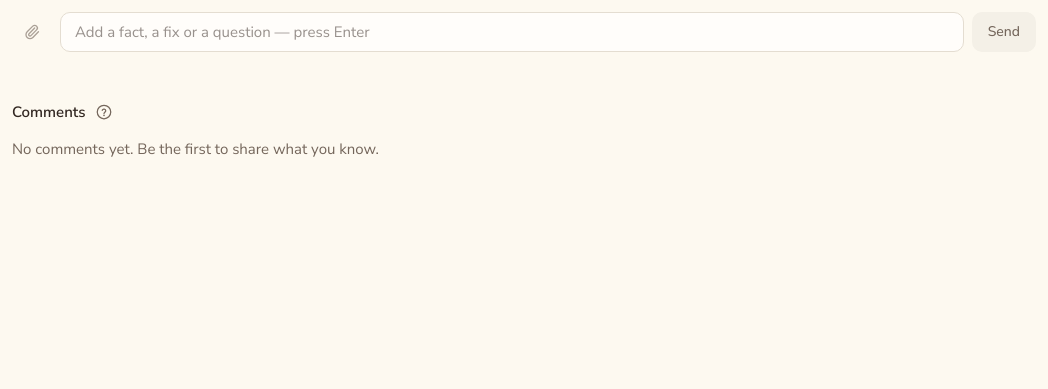
Test: CommunitySection — How comments work › toggles the popover with aria-expanded
This screenshot has width=1048, height=389.
Click the button named "How comments work". click: (104, 112)
box: 92,100 -> 116,124
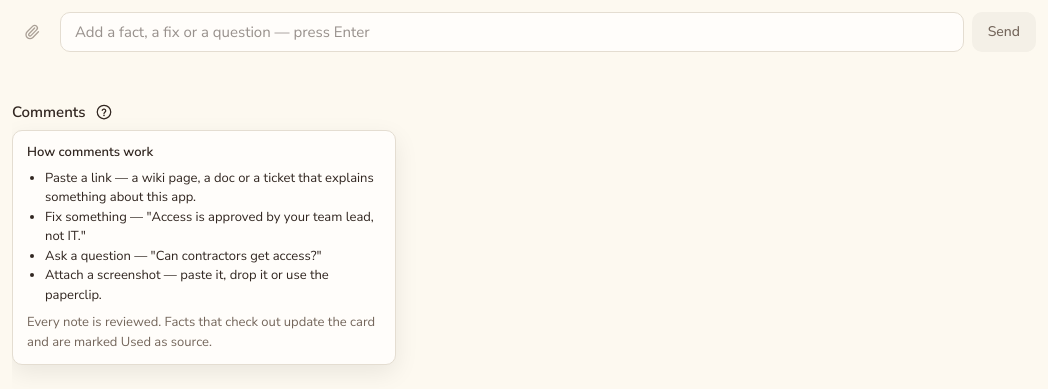
Check: the button named "How comments work" is expanded
Click the button named "How comments work". click: (104, 112)
box: 92,100 -> 116,124
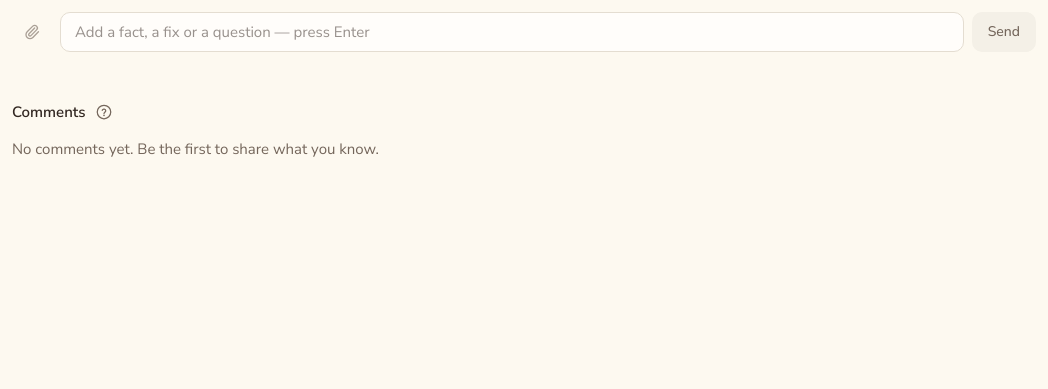
Check: the button named "How comments work" is collapsed, box 92,100 -> 116,124
